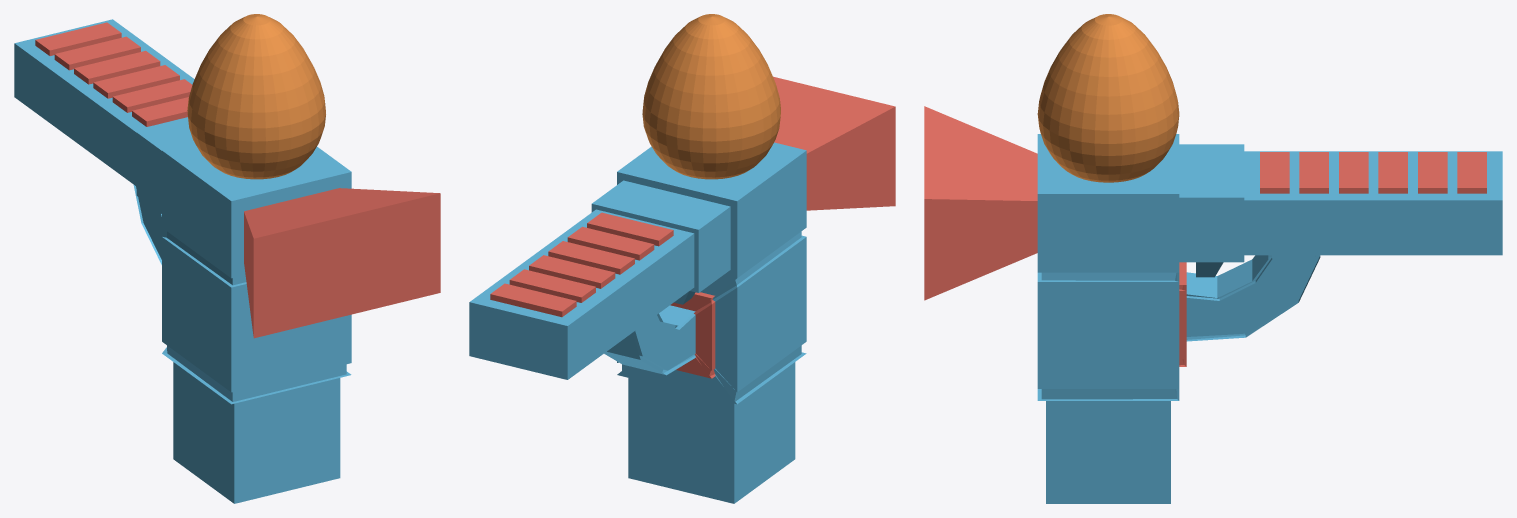
The model's file is Omelette Gun.fbx.
The picture shows the model from 3 angles, left to right: view 1: azimuth 30°, elevation 25°; view 2: azimuth 150°, elevation 25°; view 3: azimuth 270°, elevation 25°; orthographic projection.
Parts seen in each view (by area): view 1: Cube.098; view 2: Cube.098; view 3: Cube.098.
Part boxes in pixels (x1,y1,x2,y2): Cube.098: [14, 14, 440, 503]; Cube.098: [469, 14, 895, 503]; Cube.098: [924, 14, 1502, 503].
Bounding box in the file's own units: 310 × 718 × 816.
